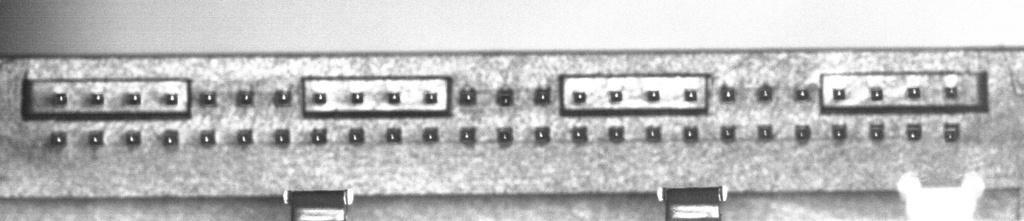pin_ok: (496, 89, 515, 108), (942, 123, 960, 142), (459, 86, 477, 104), (533, 86, 551, 104), (273, 88, 292, 105), (310, 127, 327, 144), (161, 129, 178, 146), (496, 127, 514, 143), (570, 126, 588, 142), (906, 123, 922, 141), (198, 90, 217, 105), (795, 124, 811, 141), (869, 123, 885, 140), (757, 84, 773, 101), (459, 127, 476, 143), (237, 89, 254, 105), (50, 130, 67, 146), (348, 127, 364, 143), (757, 124, 773, 140), (199, 129, 215, 145), (273, 128, 289, 144), (608, 125, 624, 141), (831, 124, 847, 140), (534, 126, 550, 142), (385, 127, 402, 142), (422, 127, 439, 142), (645, 126, 661, 141), (721, 125, 736, 141), (124, 130, 140, 145), (795, 86, 811, 101), (237, 129, 253, 144), (720, 86, 736, 101), (683, 126, 698, 141), (943, 85, 959, 99), (571, 90, 587, 104), (423, 90, 438, 104), (88, 131, 103, 145), (684, 88, 698, 102), (870, 86, 884, 100), (645, 89, 660, 102), (608, 89, 623, 102), (387, 91, 402, 104), (312, 91, 327, 104), (126, 92, 141, 105), (832, 87, 847, 100), (907, 86, 921, 99), (350, 91, 364, 104), (53, 91, 67, 104), (164, 92, 179, 104), (90, 92, 103, 104)
